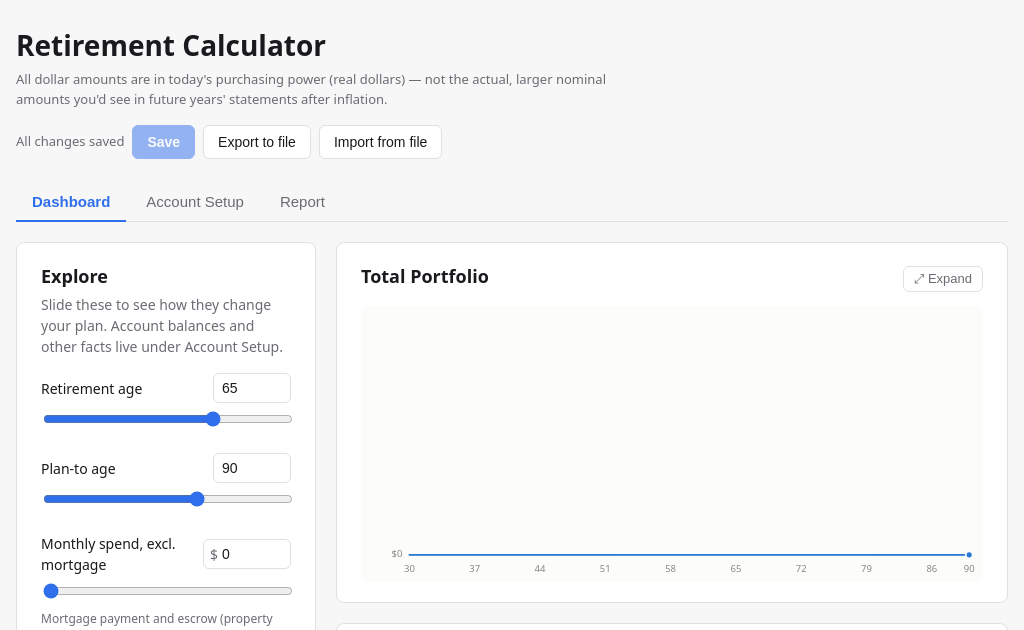
Test case: App › Save overwrites the server plan and clears the unsaved-changes state
The image size is (1024, 630).
Expected: the heading "Retirement Calculator" is shown, [16,26,326,64]
Expected: the button "Save" is disabled, [132,125,195,159]
Click the tab "Account Setup": (195, 202) [130,183,260,222]
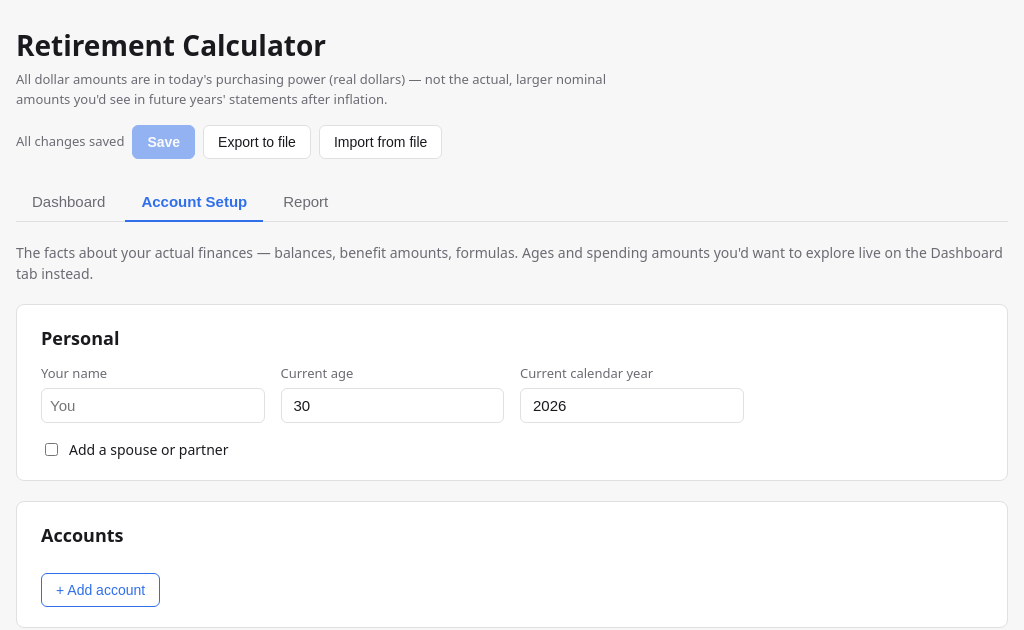
Click the button "+ Add account": (101, 590) [41,572,160,606]
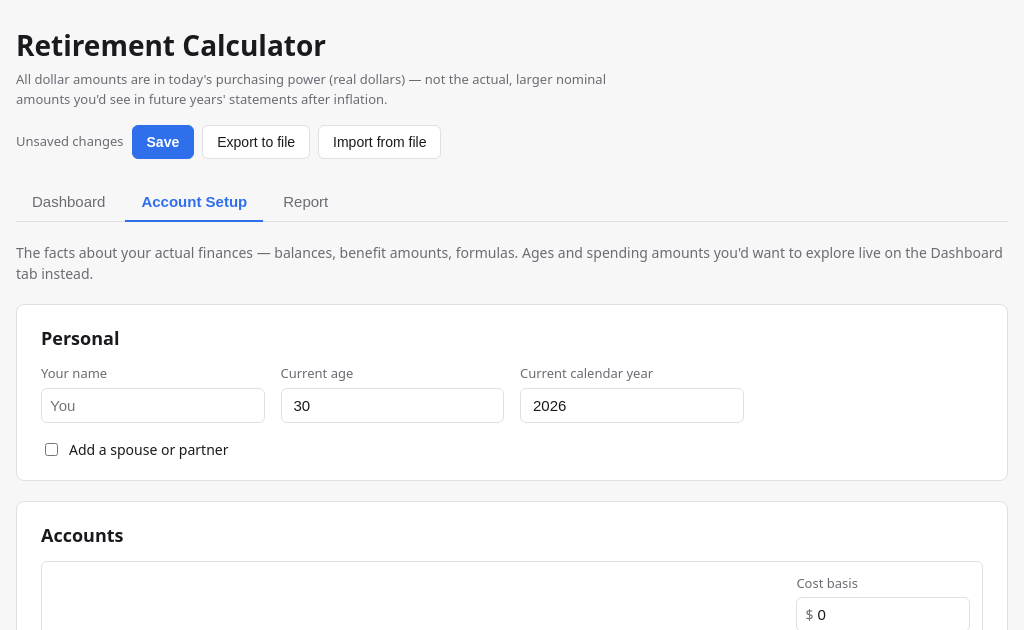
Expected: the message reads "Unsaved changes", [16,132,124,150]
Click the button "Save": (163, 142) [132,125,194,159]
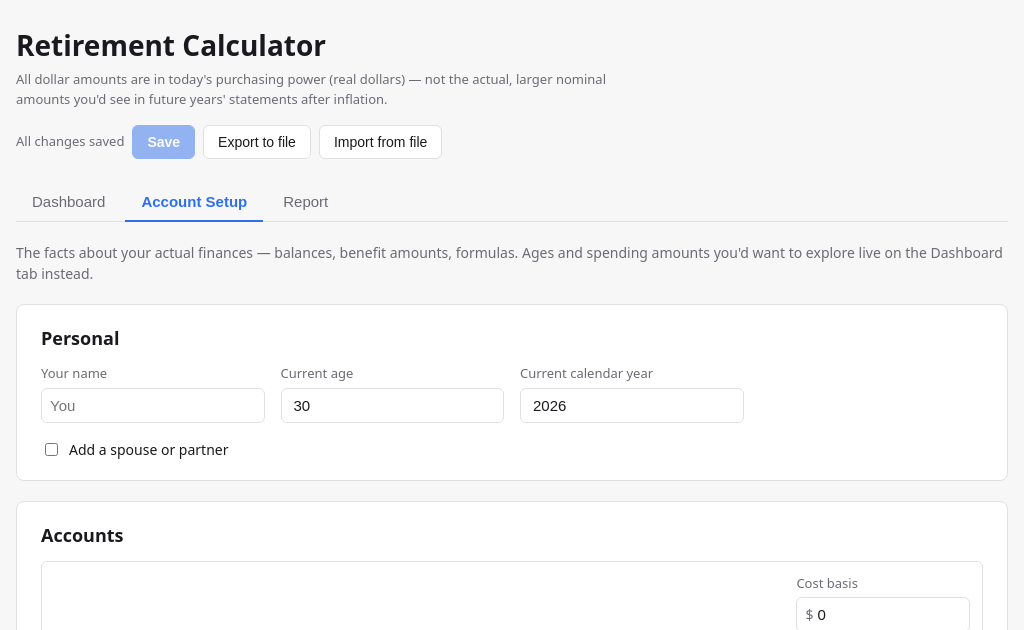
Expected: the text "All changes saved" is shown, [16,132,124,152]
Expected: the button "Save" is disabled, [132,125,195,159]
